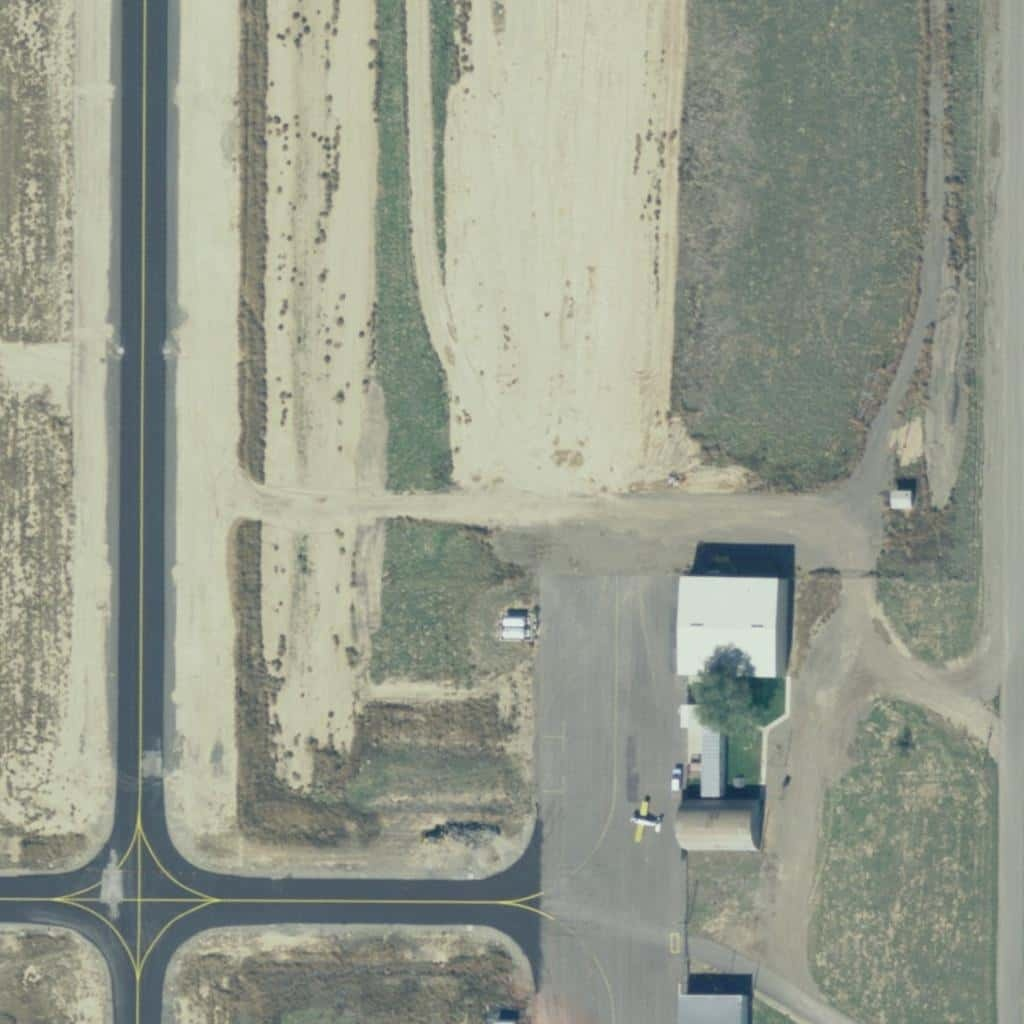plane: (629, 795, 662, 847)
